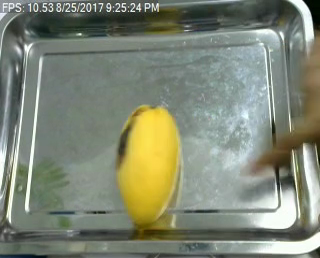Mango: (113, 102, 184, 224)
